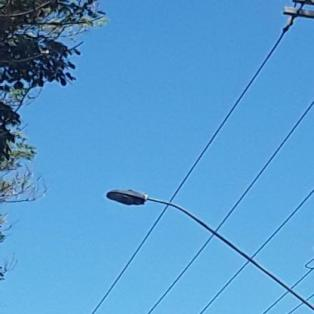Poste: (268, 1, 313, 314)
